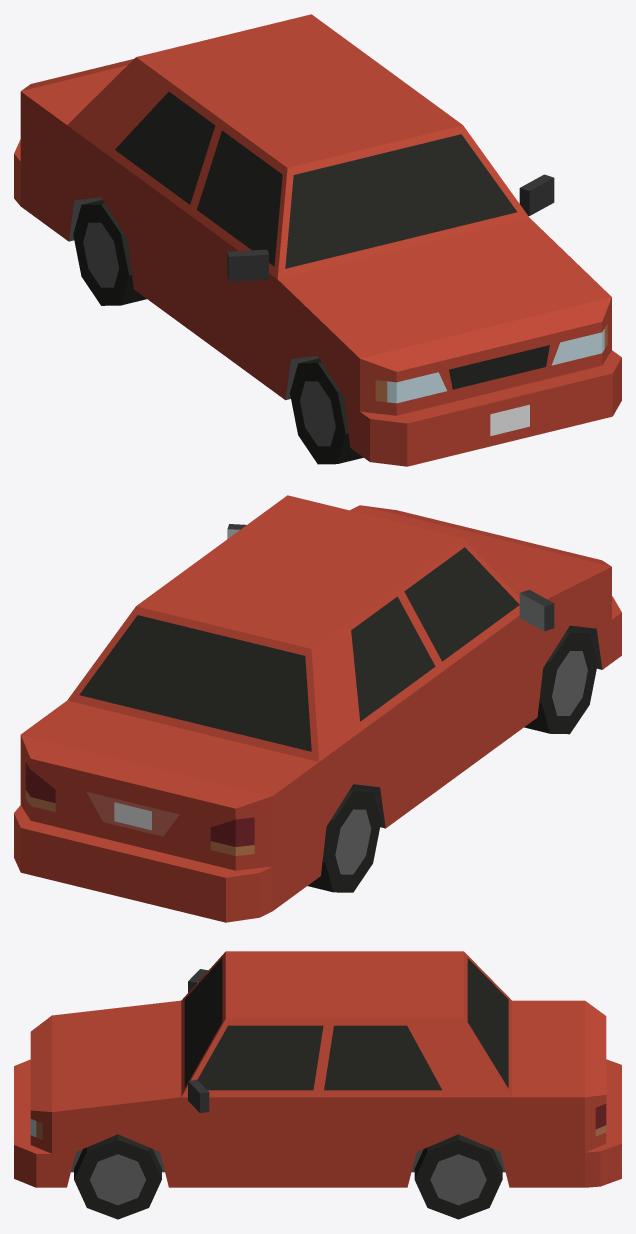
File: Veh_Sedan_01_Red.obj
3 views of the same model, one above another, from view 1: azimuth 30°, elevation 25°; view 2: azimuth 150°, elevation 25°; view 3: azimuth 270°, elevation 25° (orthographic). The views are drawn at different scales.
Size of the model in its own units: 1.22 by 0.852 by 2.52.
